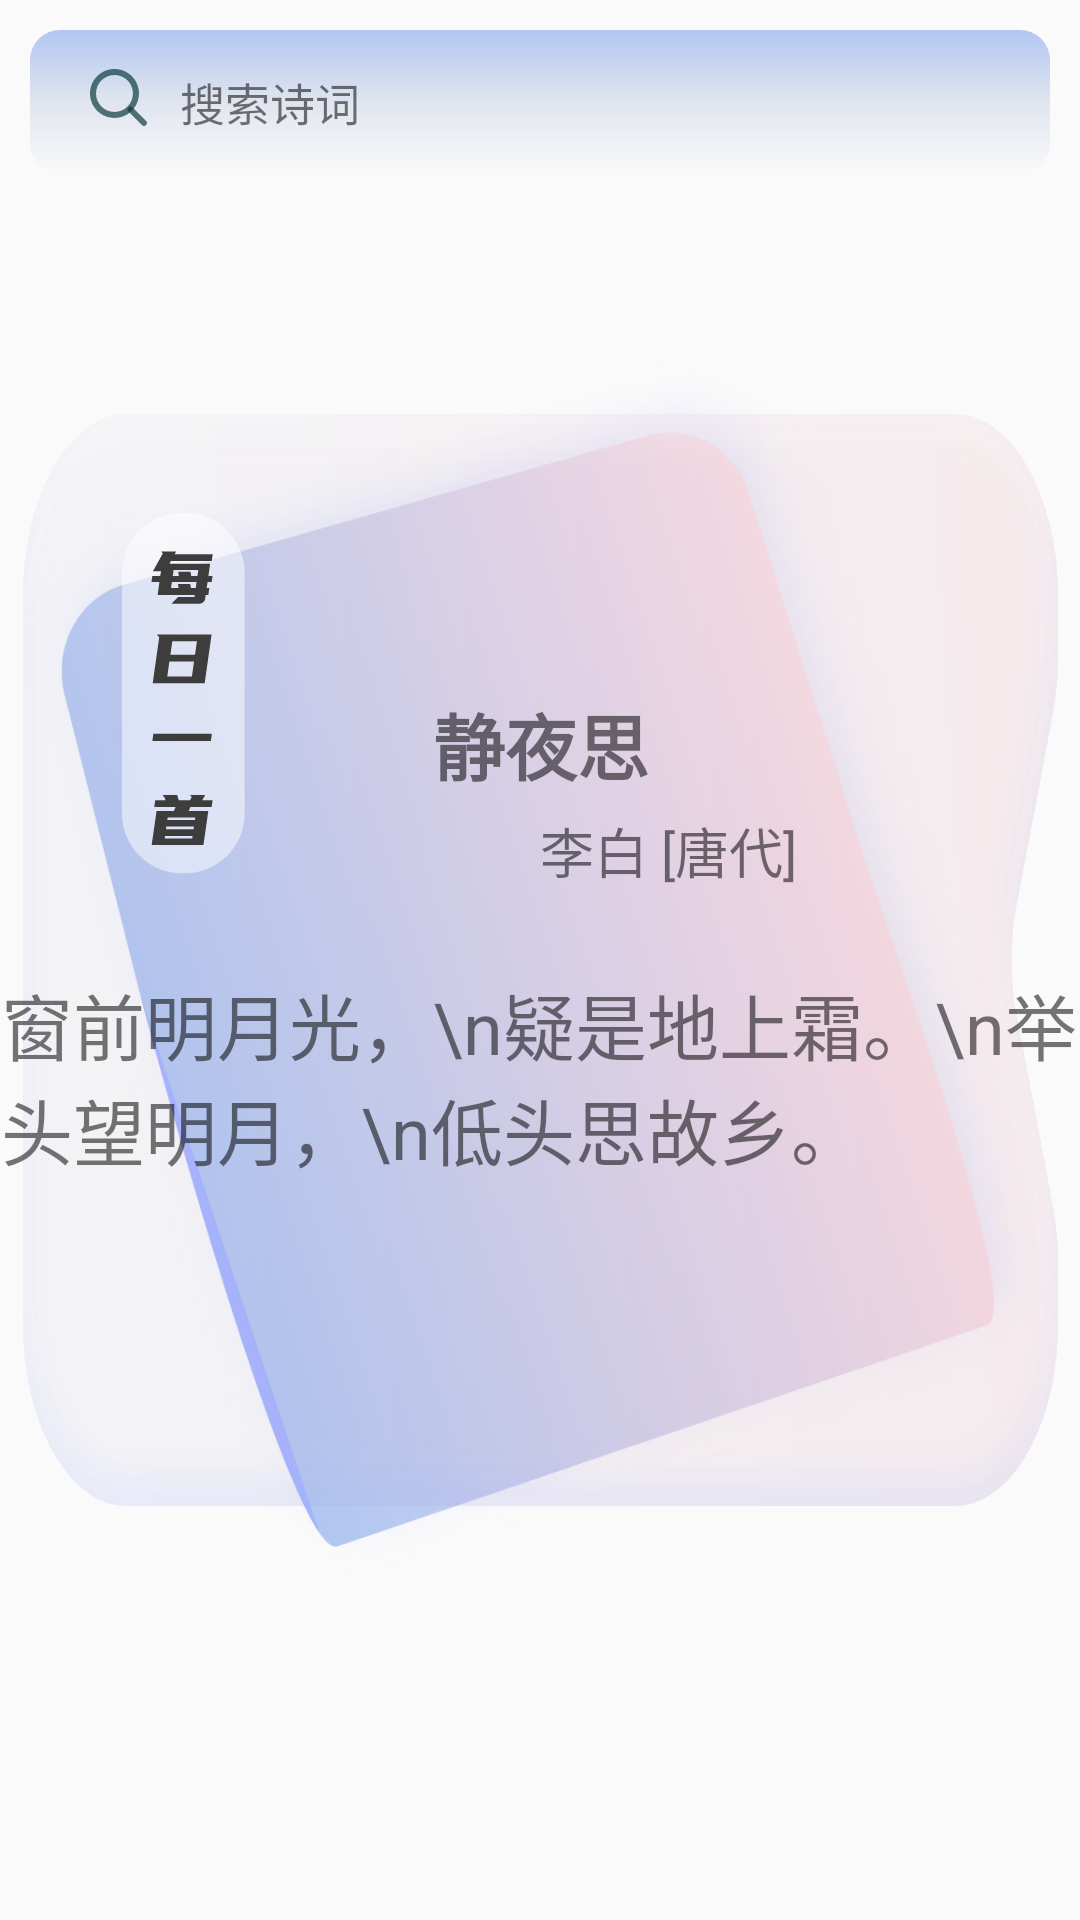

Icons on this 1080w x 1920h Android screen, each with the point to tap as (x,y):
search: (118,97)
